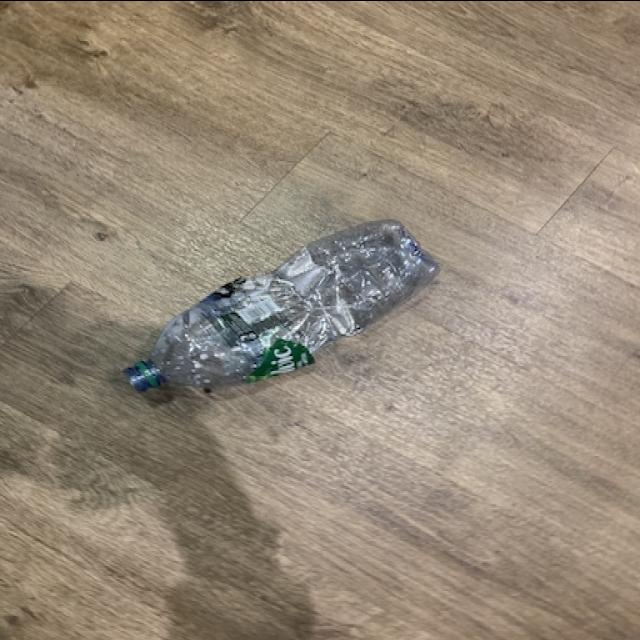PET: (121, 212, 441, 402)
